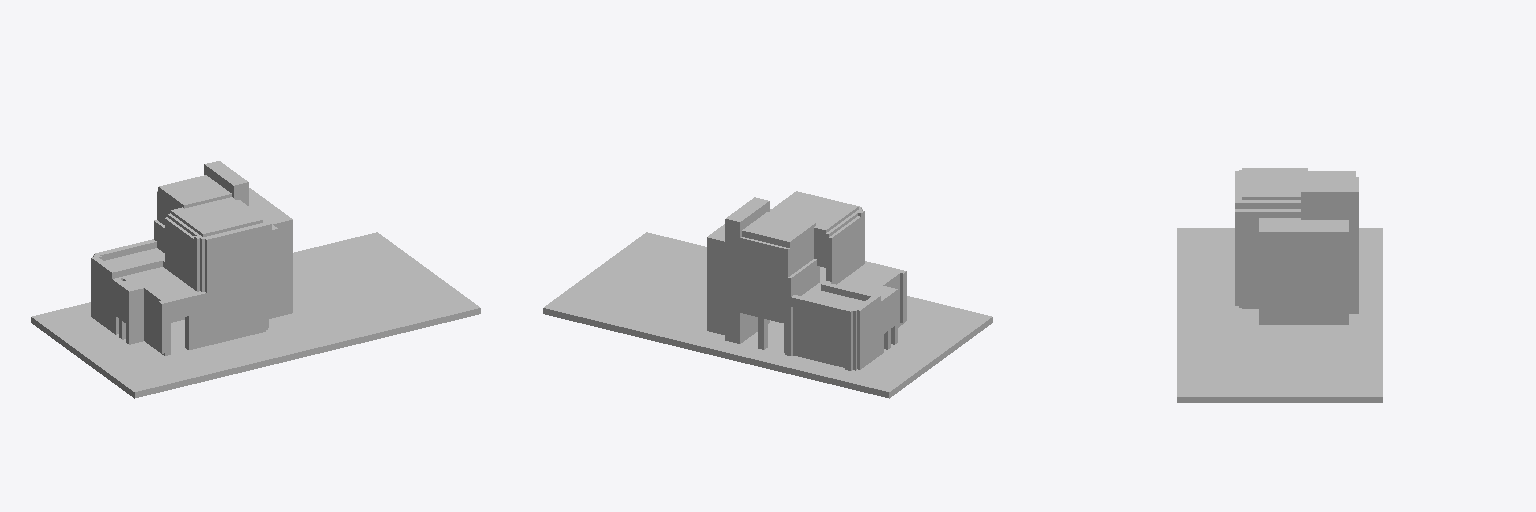
The model's file is room.obj.
The picture shows the model from 3 angles: view 1: azimuth 30°, elevation 25°; view 2: azimuth 150°, elevation 25°; view 3: azimuth 270°, elevation 25°; orthographic projection.
Size of the model in its own units: 1.16 by 0.42 by 0.6.